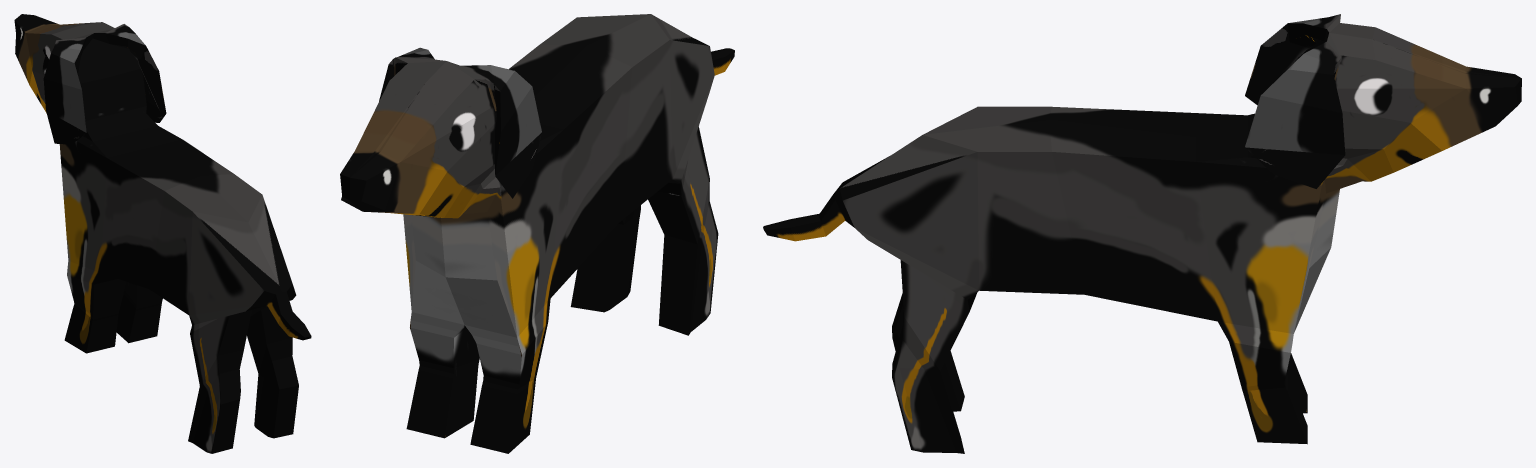
Rendered from dognew.fbx.
3 views of the same model, side by side, from view 1: azimuth 30°, elevation 25°; view 2: azimuth 150°, elevation 25°; view 3: azimuth 270°, elevation 25° (orthographic). The views are drawn at different scales.
Parts seen in each view (by area): view 1: Cube; view 2: Cube; view 3: Cube.
Part boxes in pixels (x1,y1,x2,y2): Cube: [14, 14, 311, 453]; Cube: [340, 14, 734, 453]; Cube: [763, 14, 1521, 453].
Bounding box in the file's own units: 72.62 × 224 × 392.
Materials: 1 (1 with a texture image).
